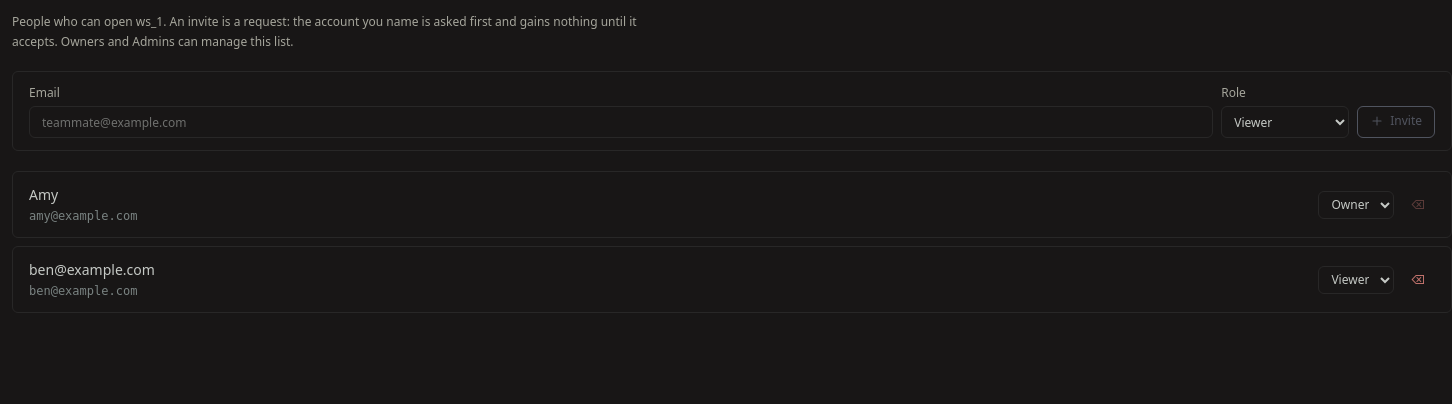
it: MembersSection › puts the role select back when the server refuses the change
This screenshot has width=1452, height=404.
Select "Viewer" in the 1st dropdown with test id "member-role-select" at (1356, 204), box [1318,190,1394,218]
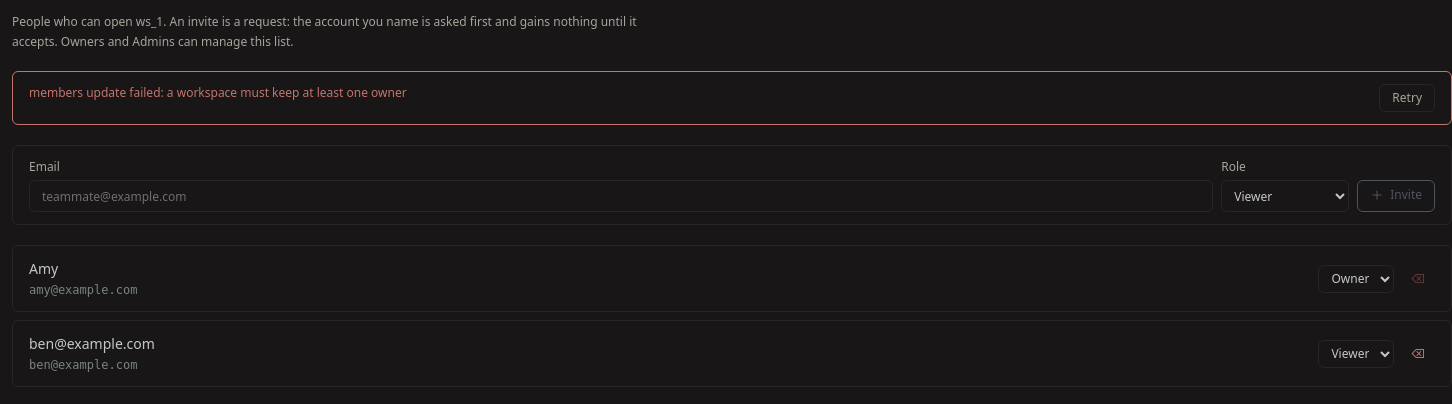
Check: the message with test id "error-message" shows "a workspace must keep at least one owner", box [29,84,407,101]
